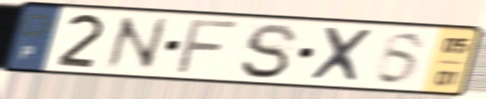2: (55, 13, 106, 71)
6: (372, 31, 430, 86)
F: (171, 18, 246, 76)
N: (102, 14, 171, 73)
S: (237, 21, 302, 82)
X: (306, 25, 377, 86)
